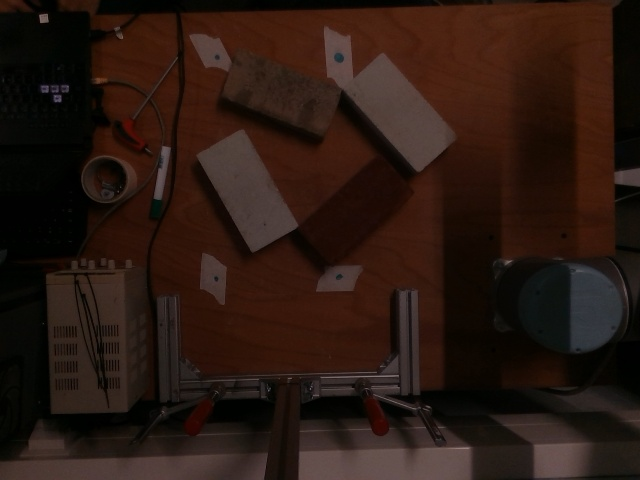brick: (344, 53, 454, 168), (297, 156, 413, 265), (198, 129, 295, 249), (220, 52, 341, 136)
